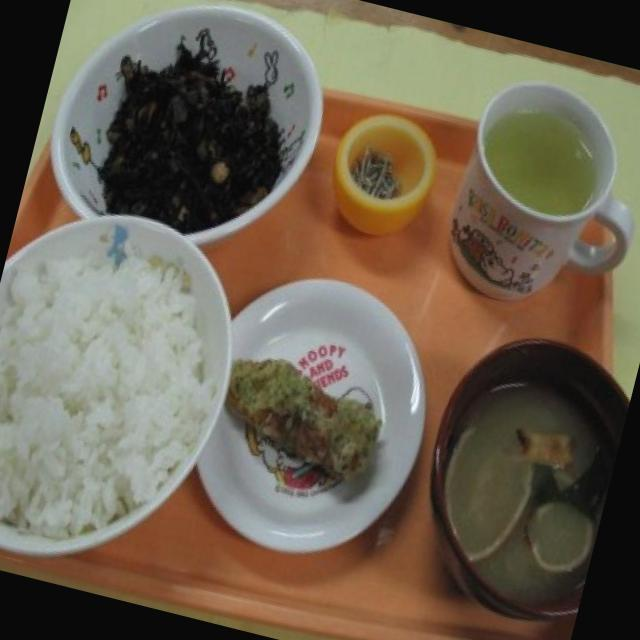Rice: (0, 215, 240, 552)
